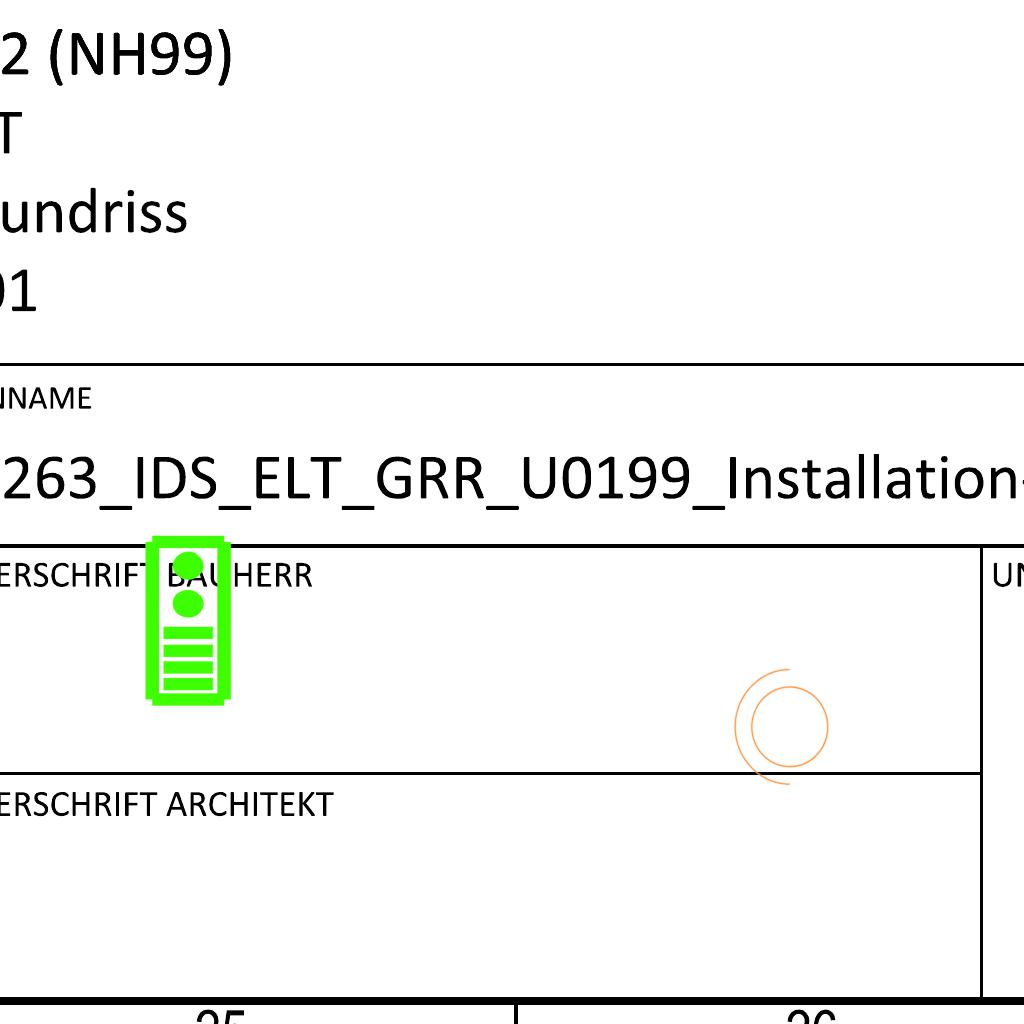Gegensprechanlage_mit_Video: (139, 532, 234, 708)
Scheinwerfer_fuer_Alarmbeleuchtung: (729, 664, 841, 796)
